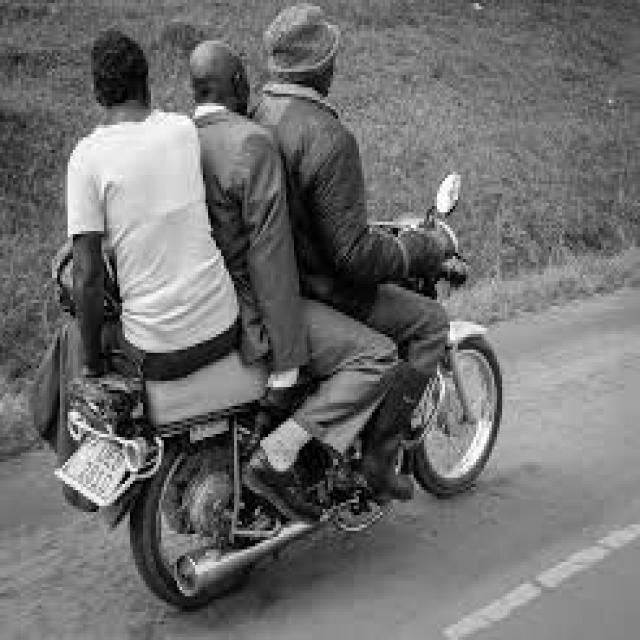bodaboda: (39, 179, 578, 626)
